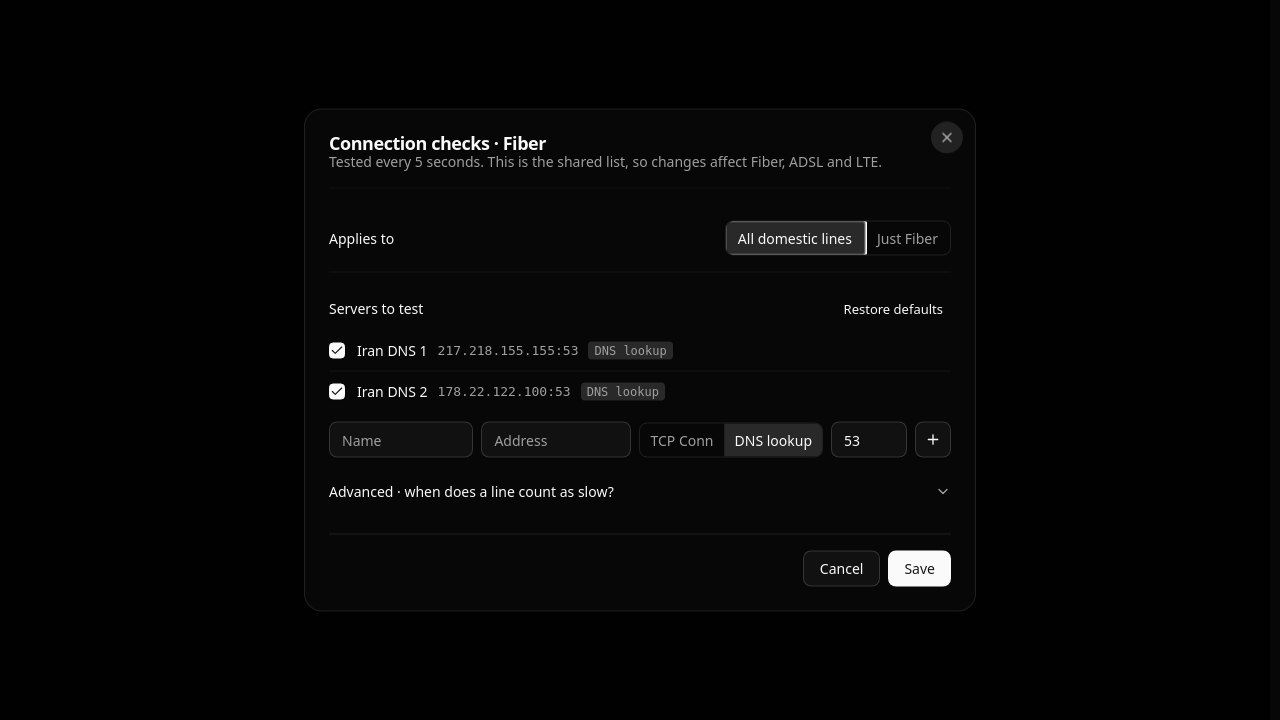
Test: rows › refuses a server that is already listed
In the field named "Address of the server": (556, 440) [481,422,631,458], type "217.218.155.155"
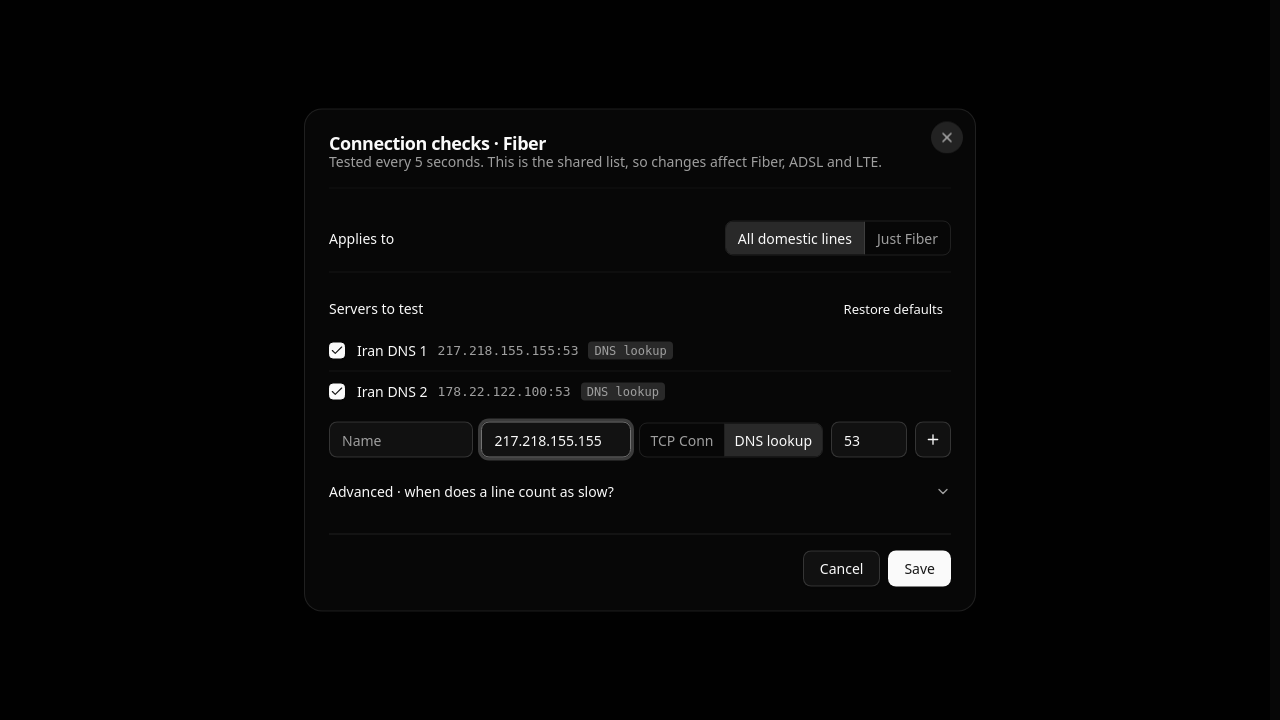
Click the button named "Add this server": (933, 440) [915,422,951,458]
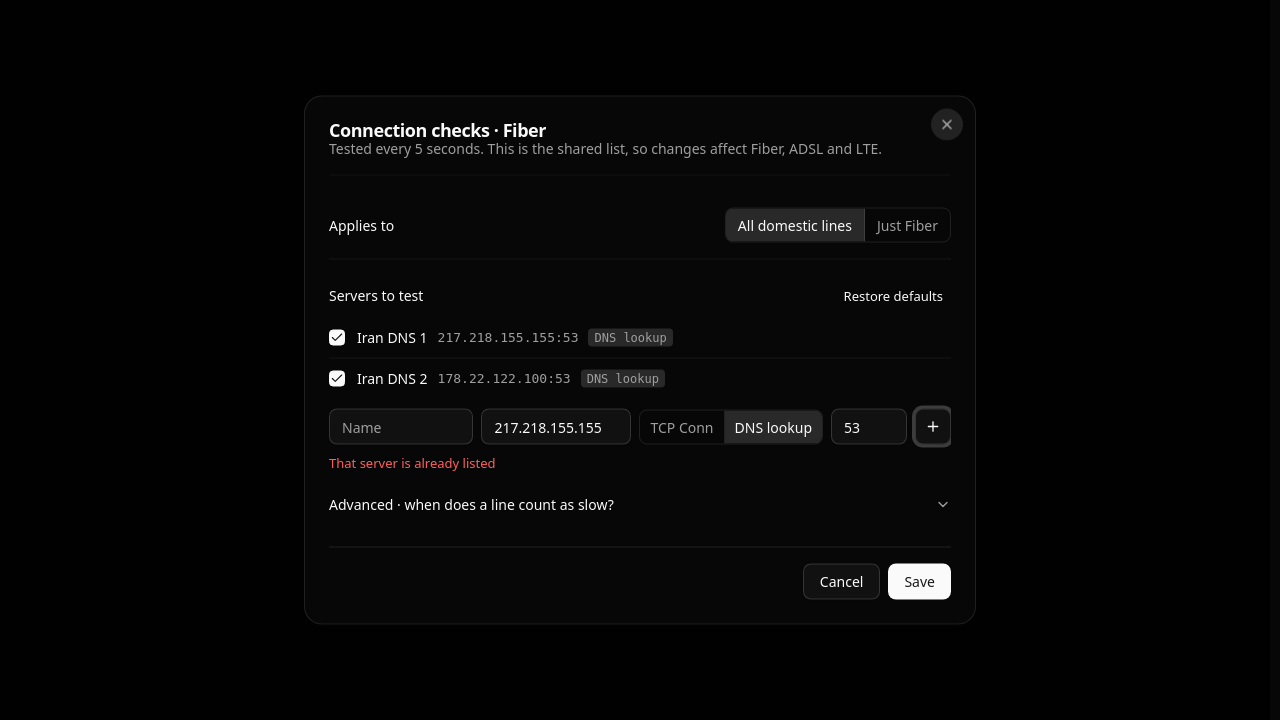
Check: the text "That server is already listed" is shown, box [329,454,496,472]
